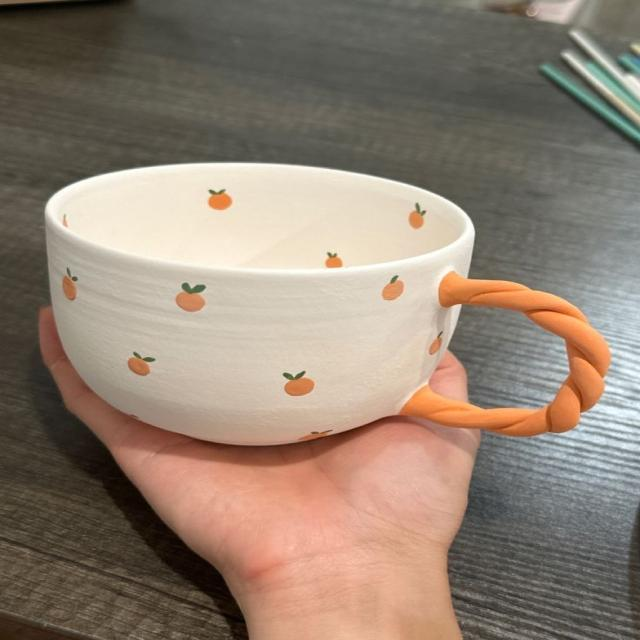glass cup: (46, 162, 612, 447)
